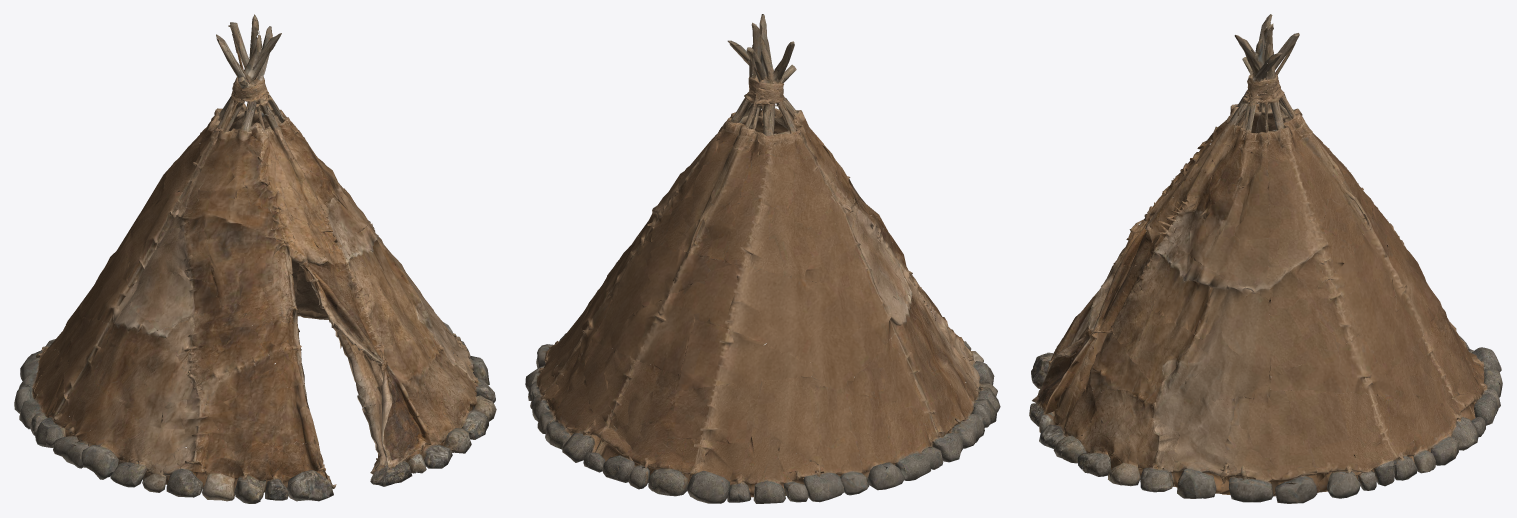
File: hide-tent.glb
3 views of the same model, side by side, from view 1: azimuth 30°, elevation 25°; view 2: azimuth 150°, elevation 25°; view 3: azimuth 270°, elevation 25° (orthographic).
Visible parts, largest first — view 1: Mesh_0; view 2: Mesh_0; view 3: Mesh_0.
Boxes of the visible parts, box(x1,y1,x2,y2) form: Mesh_0: box(14, 14, 496, 503); Mesh_0: box(525, 14, 1000, 503); Mesh_0: box(1029, 14, 1502, 503).
Bounding box in the file's own units: 2.94 × 2.6 × 2.9.
Materials: 1 (1 with a texture image).
